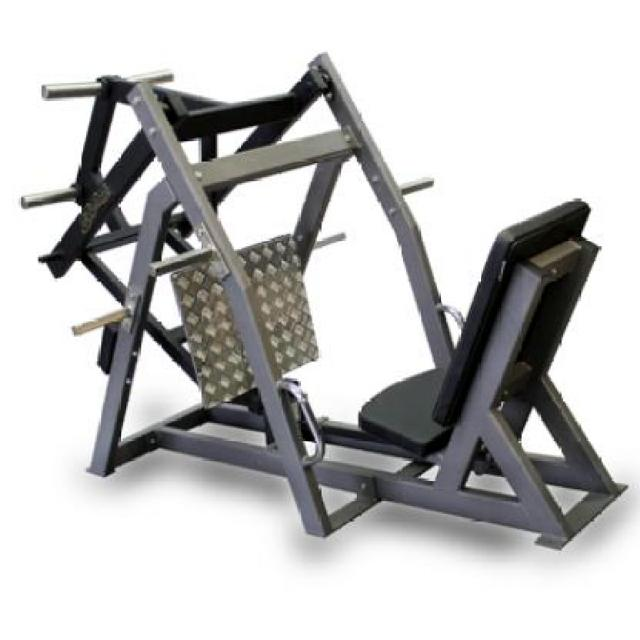leg press: (9, 51, 640, 558)
